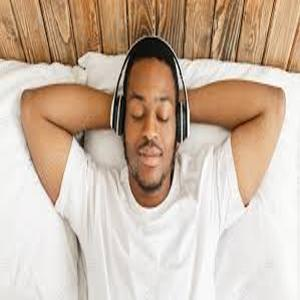Headphones: (107, 34, 191, 143)
